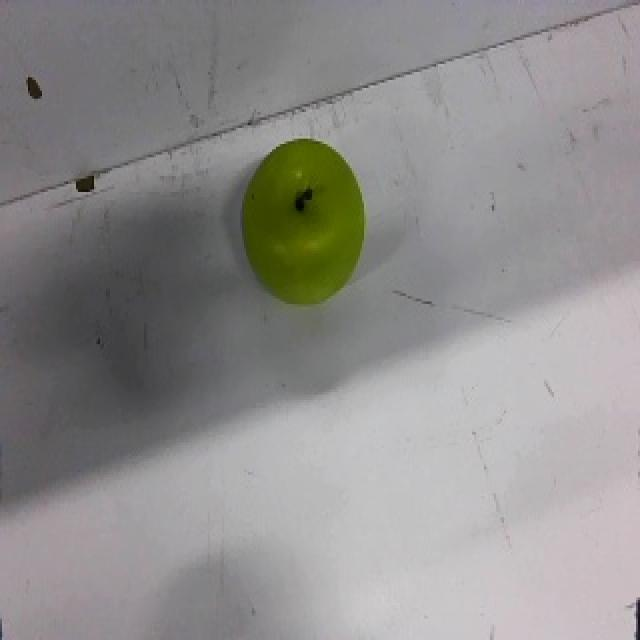apple: (240, 137, 367, 306)
